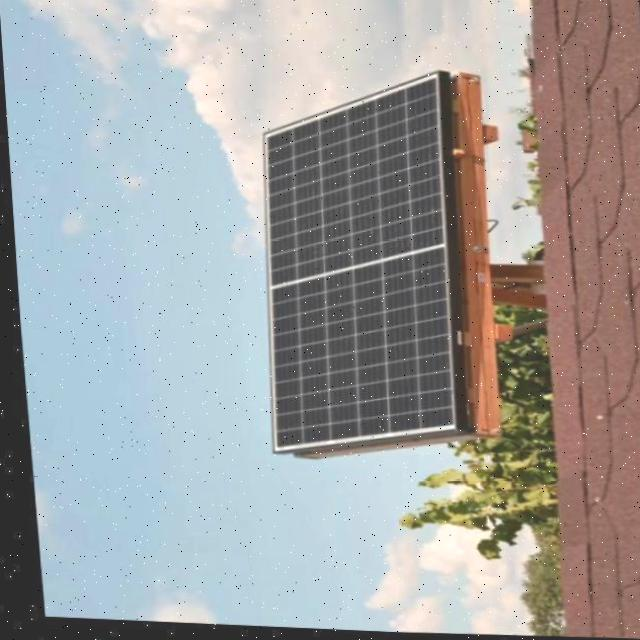Normal Solar Panel: (244, 64, 474, 462)
